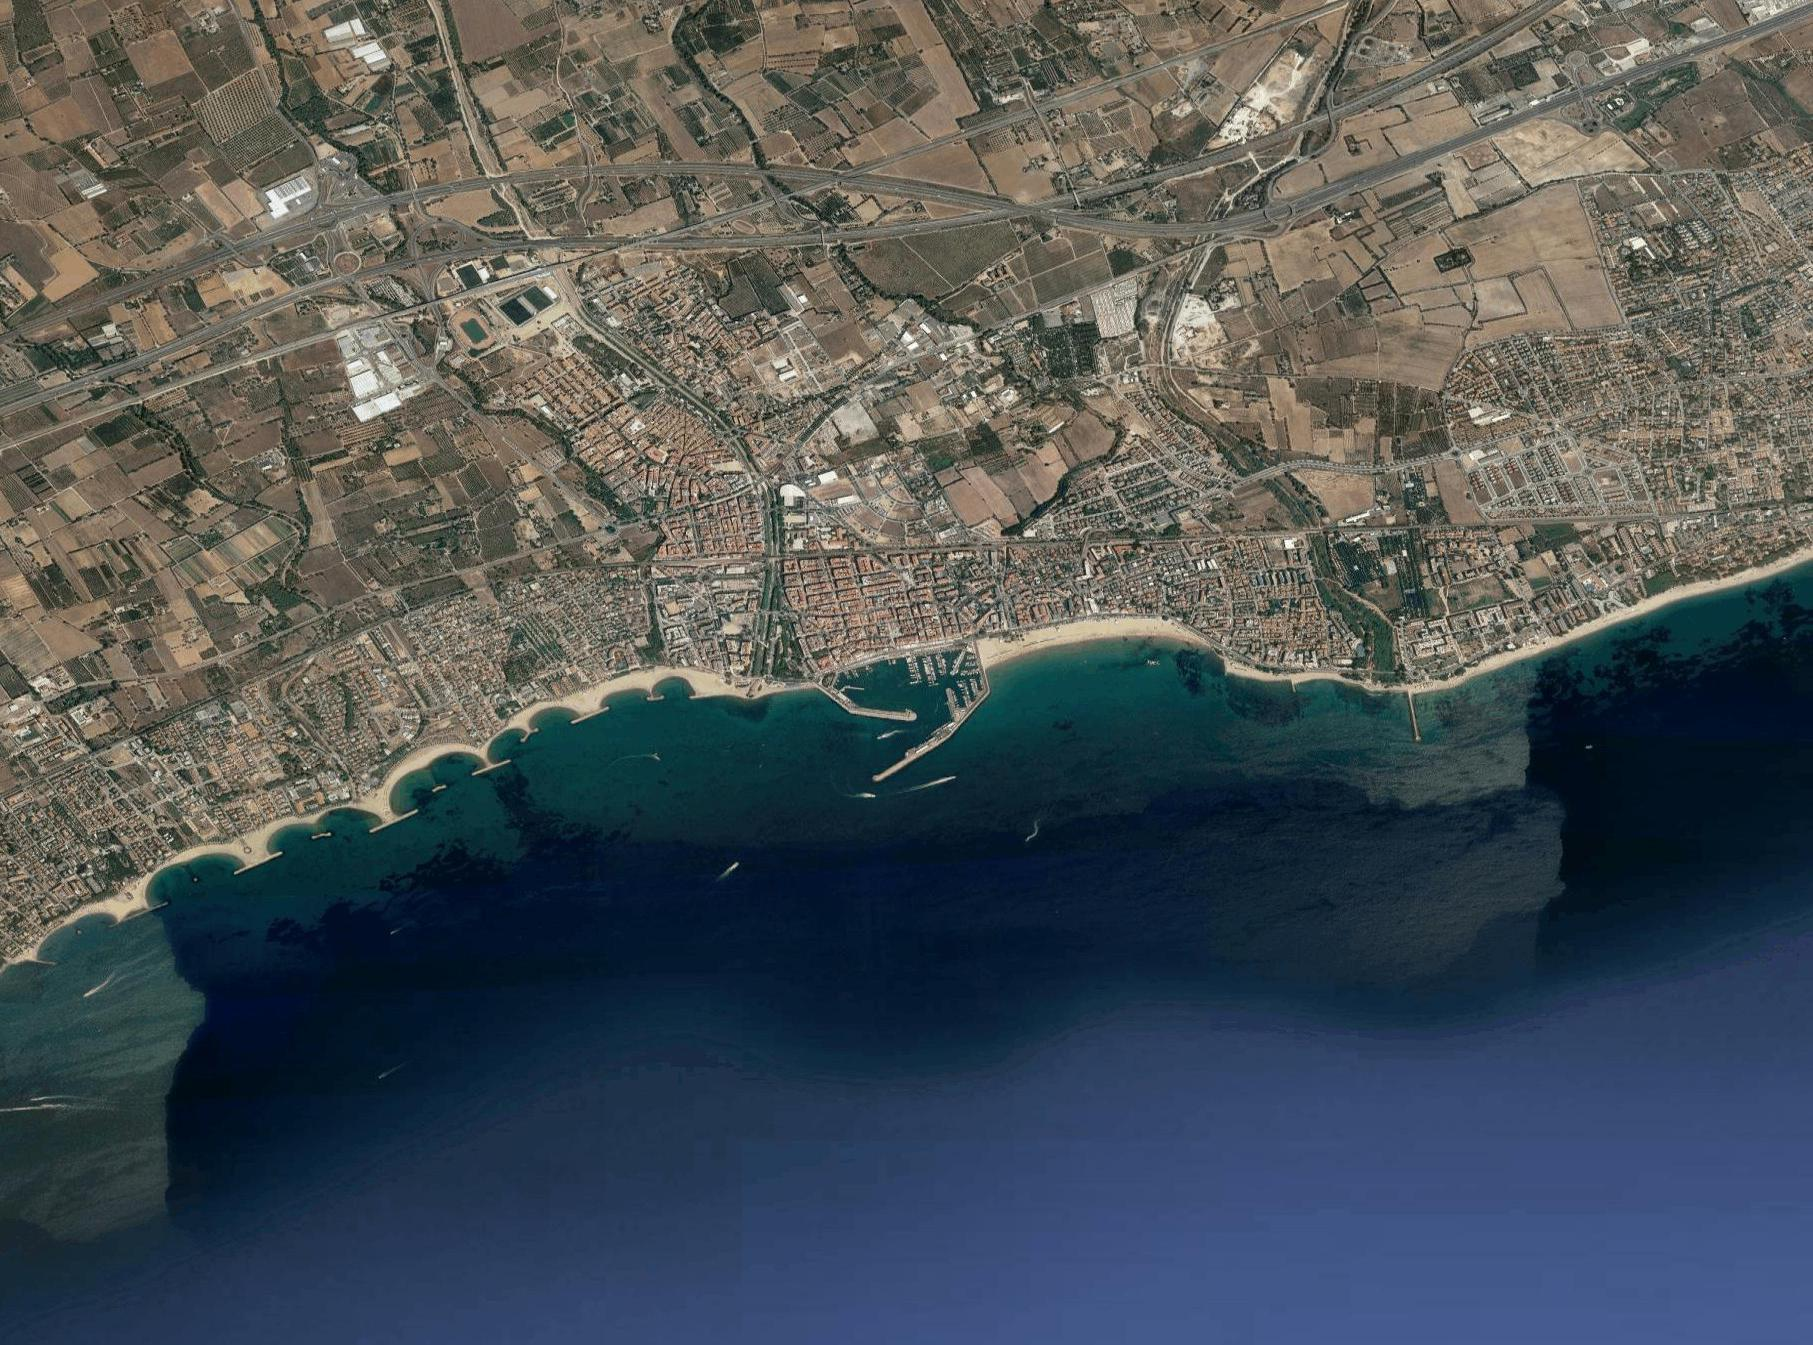harbor: (807, 624, 1010, 776)
motorway: (1210, 124, 1489, 251), (1489, 18, 1769, 146), (1275, 1, 1554, 129), (151, 249, 396, 380), (14, 216, 285, 333), (288, 143, 596, 227), (596, 129, 904, 213), (902, 165, 1210, 250), (1050, 122, 1306, 198), (646, 211, 902, 287), (389, 213, 644, 290), (1, 352, 143, 425)
